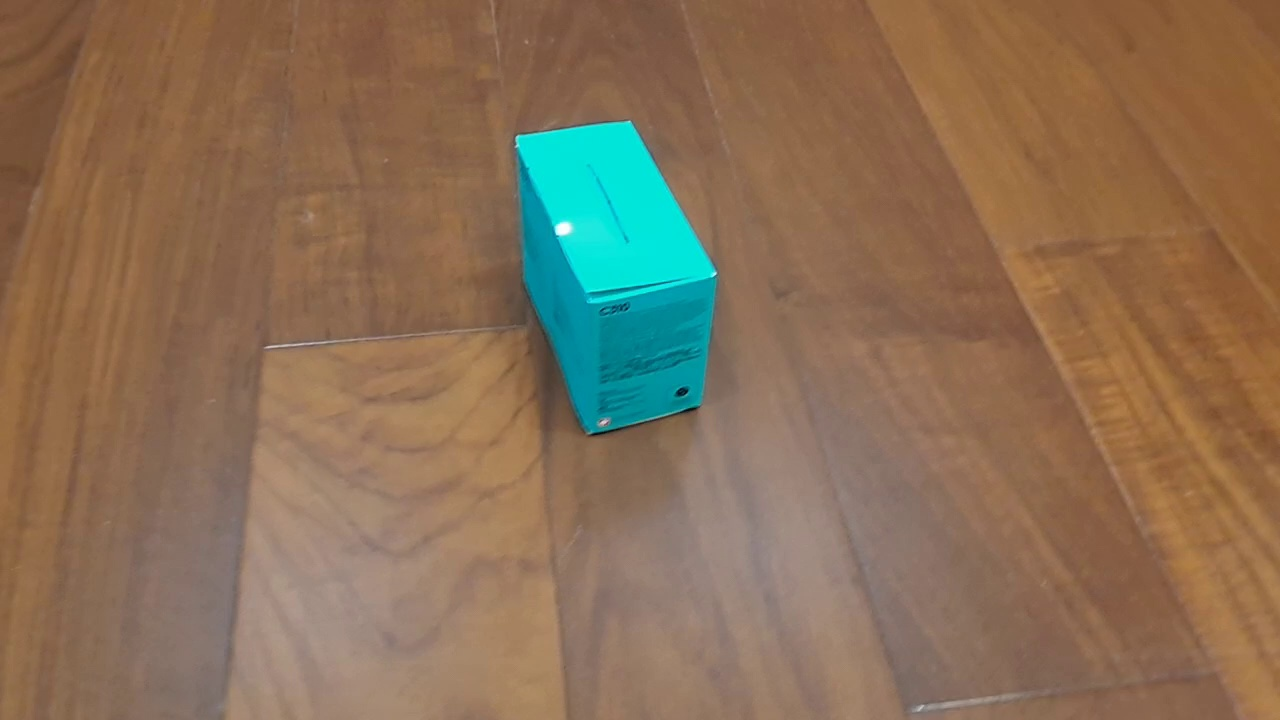webcam: (513, 119, 720, 438)
